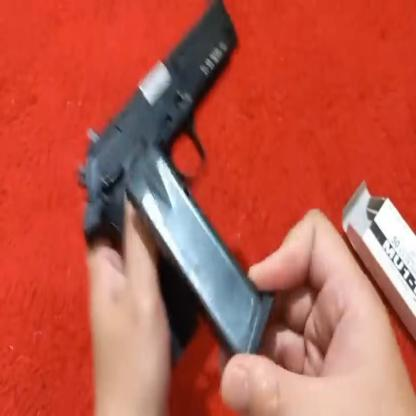handgun: (73, 0, 277, 371)
